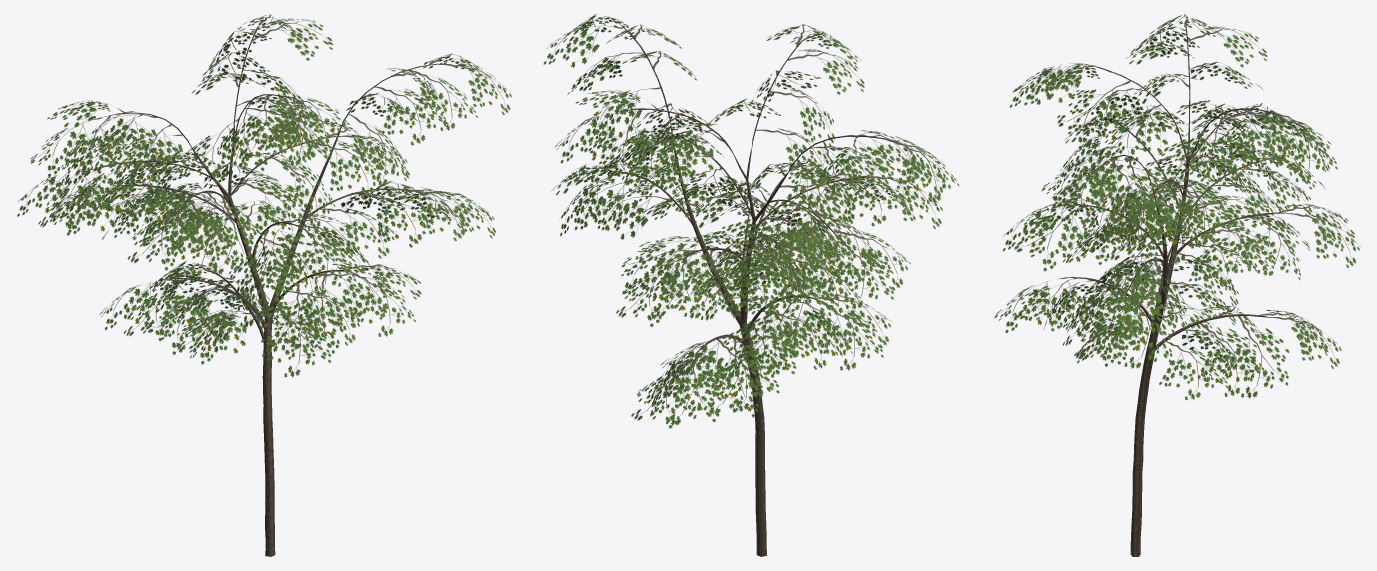
Rendered from maple1.glb.
3 renders of one model, left to right at view 1: azimuth 30°, elevation 25°; view 2: azimuth 150°, elevation 25°; view 3: azimuth 270°, elevation 25°, orthographic. The views are drawn at different scales.
Parts seen in each view (by area): view 1: foliage, structure; view 2: foliage, structure; view 3: foliage, structure.
Boxes of the visible parts, x1,y1,x2,y2 form: foliage: (17, 14, 511, 377); structure: (90, 25, 438, 556); foliage: (543, 14, 959, 428); structure: (616, 23, 884, 556); foliage: (994, 14, 1360, 400); structure: (1068, 26, 1286, 556).
Size of the model in its own units: 6.97 by 7.52 by 5.19.
2 materials, 2 textured.
